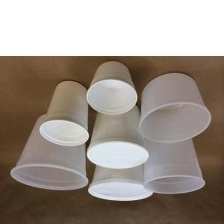plastic_box: (3, 108, 93, 197), (132, 68, 215, 147), (82, 99, 152, 174), (137, 129, 210, 200), (33, 75, 95, 150), (82, 55, 141, 119), (82, 159, 158, 206)
